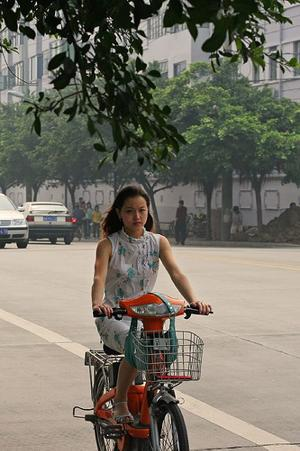person: (93, 186, 213, 434)
